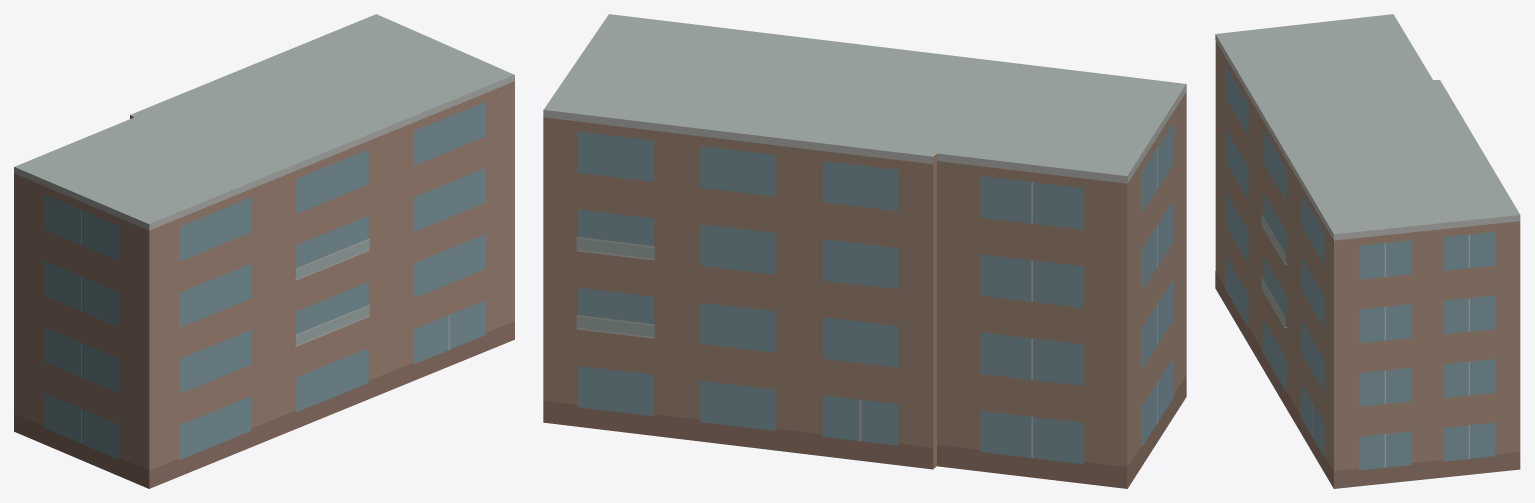
Rendered from survey-upis-32680145.glb.
3 views of the same model, side by side, from view 1: azimuth 30°, elevation 25°; view 2: azimuth 150°, elevation 25°; view 3: azimuth 270°, elevation 25° (orthographic). The views are drawn at different scales.
Visible parts, largest first — view 1: survey-upis-32680145.tmp; view 2: survey-upis-32680145.tmp; view 3: survey-upis-32680145.tmp.
Part boxes in pixels (x1,y1,x2,y2): survey-upis-32680145.tmp: (14,14,514,488); survey-upis-32680145.tmp: (543,14,1186,488); survey-upis-32680145.tmp: (1215,14,1520,488).
Bounding box in the file's own units: 18.77 × 10.1 × 10.98.
